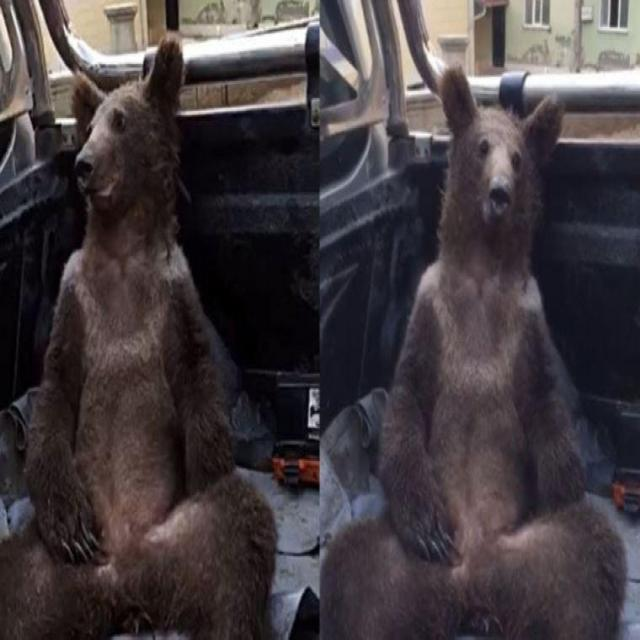Bear: (317, 67, 629, 640), (0, 36, 276, 640)
